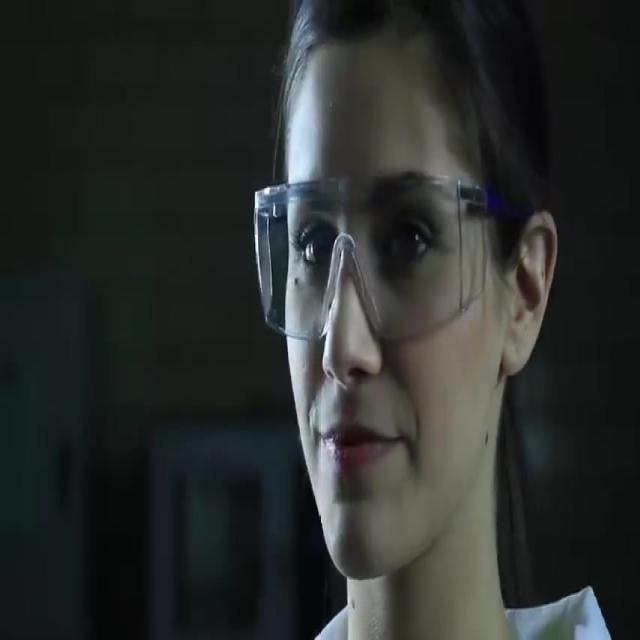googles: (252, 172, 483, 345)
labcoat: (310, 577, 612, 640)
